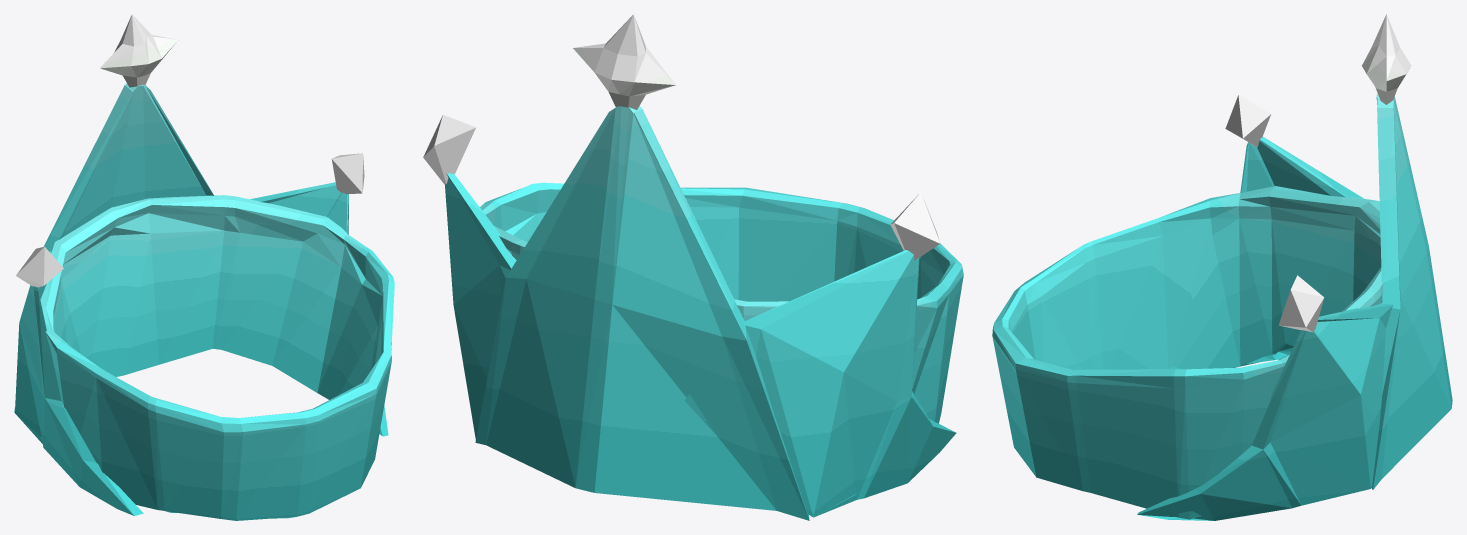
The model's file is CharSkyKid_Horn_BirthdayHat_03.glb.
3 renders of one model, left to right at view 1: azimuth 30°, elevation 25°; view 2: azimuth 150°, elevation 25°; view 3: azimuth 270°, elevation 25°, orthographic. The views are drawn at different scales.
Parts seen in each view (by area): view 1: CharSkyKid_Horn_BirthdayHat_03; view 2: CharSkyKid_Horn_BirthdayHat_03; view 3: CharSkyKid_Horn_BirthdayHat_03.
Part boxes in pixels (box(x1,y1,x2,y2)): CharSkyKid_Horn_BirthdayHat_03: box(14, 14, 394, 520); CharSkyKid_Horn_BirthdayHat_03: box(423, 14, 963, 520); CharSkyKid_Horn_BirthdayHat_03: box(992, 14, 1452, 520).
Size of the model in its own units: 2.02 by 2.01 by 1.93.
1 material, 1 textured.
